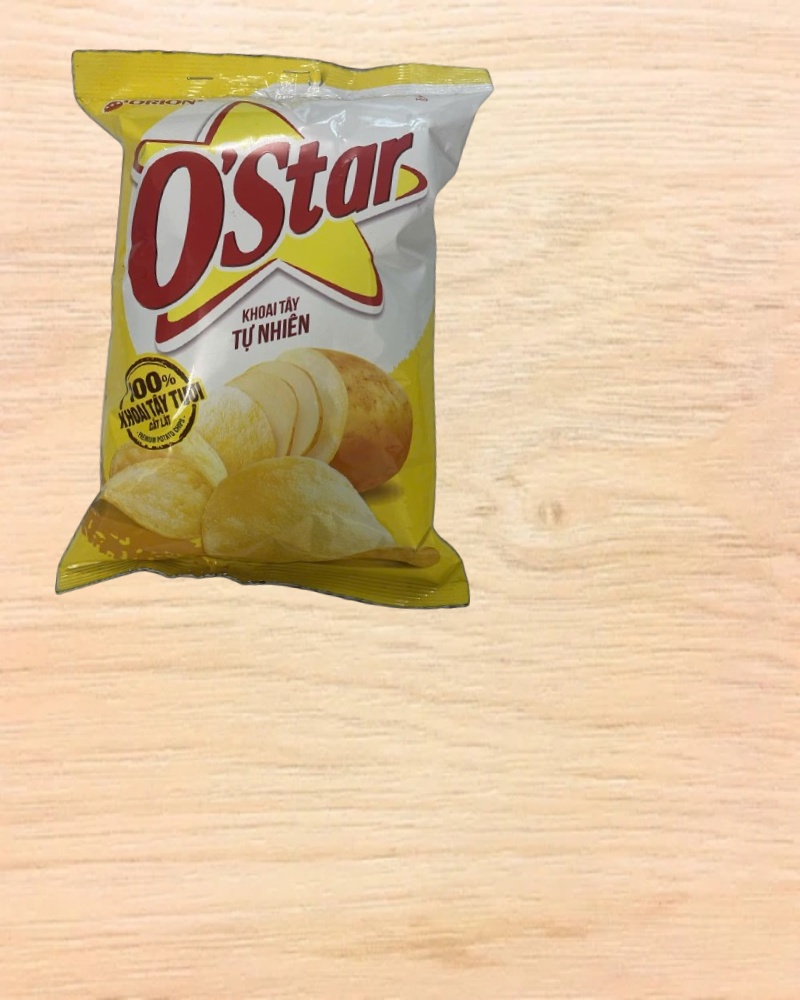O'star: (27, 33, 516, 630)
